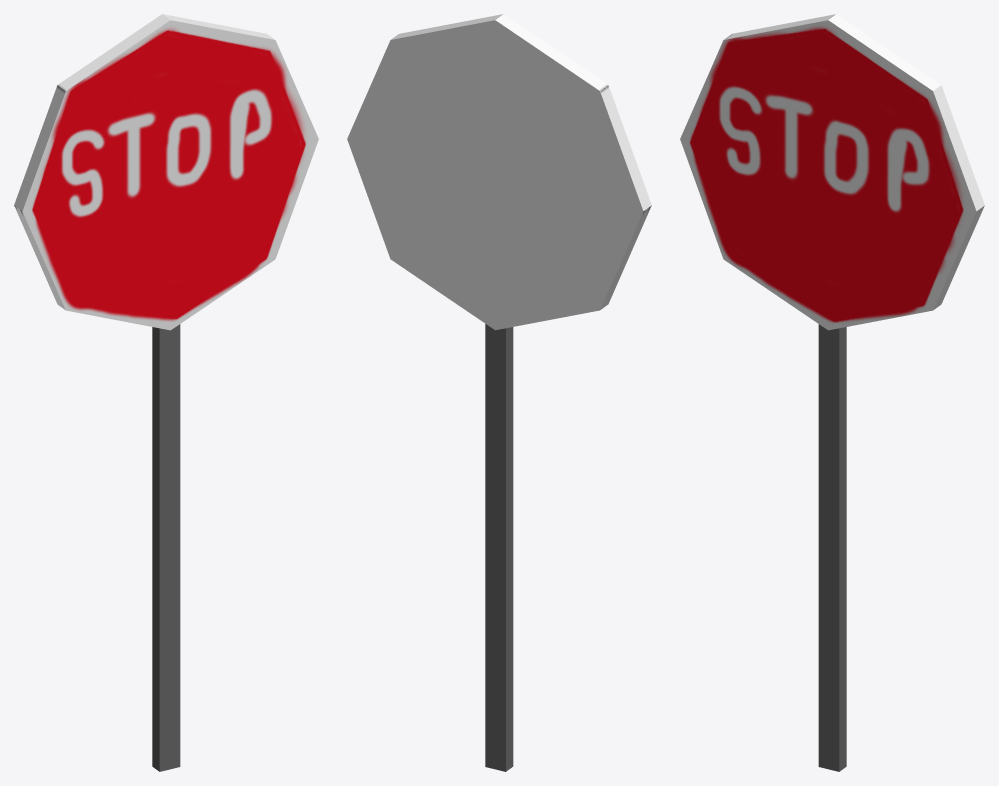
The model's file is Stop sign.glb.
3 renders of one model, left to right at view 1: azimuth 30°, elevation 25°; view 2: azimuth 150°, elevation 25°; view 3: azimuth 330°, elevation 25°, orthographic.
Parts seen in each view (by area): view 1: Cylinder, Cube; view 2: Cylinder, Cube; view 3: Cylinder, Cube.
Part boxes in pixels (bbox=[...]): Cylinder: bbox=[14, 14, 318, 330]; Cube: bbox=[152, 324, 180, 771]; Cylinder: bbox=[347, 14, 651, 330]; Cube: bbox=[485, 324, 513, 771]; Cylinder: bbox=[680, 14, 984, 330]; Cube: bbox=[818, 324, 846, 771].
Size of the model in its own units: 0.3178 by 0.768 by 0.0156.
Materials: 2 (1 with a texture image).
